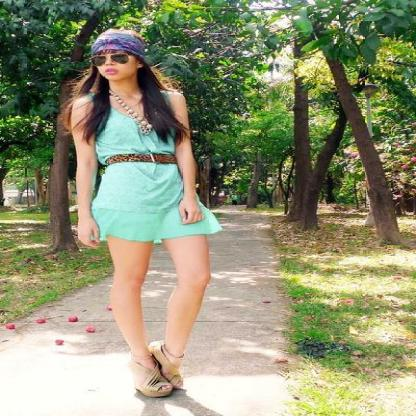dress: (92, 109, 211, 240)
hat: (87, 25, 149, 53)
shoe: (134, 372, 186, 407)
sunglass: (87, 42, 121, 68)
